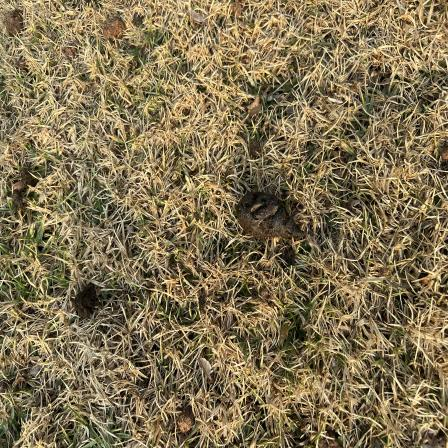dog-poop: (232, 180, 310, 258)
